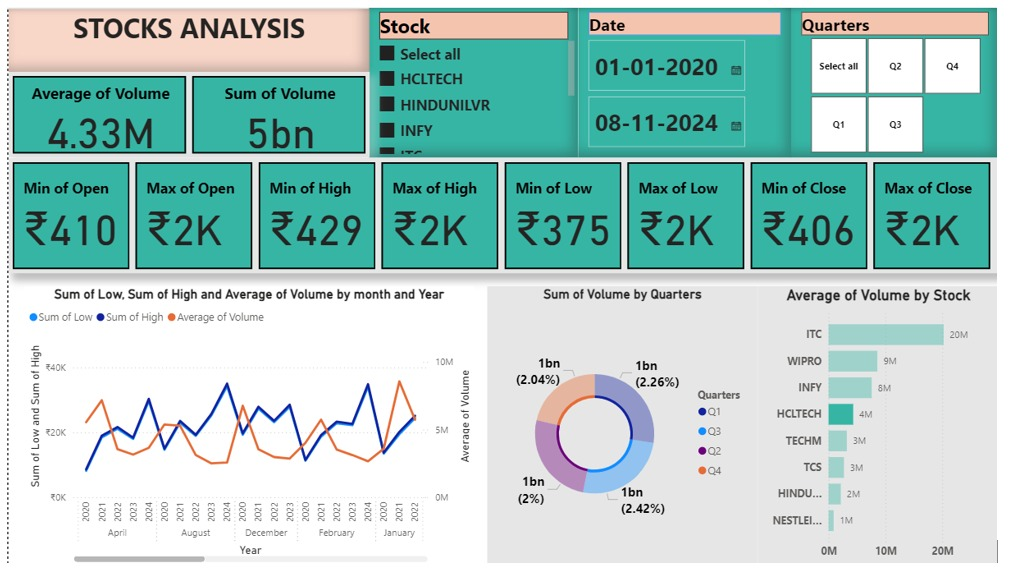

The dashboard page shown, as its layout file describes it:
{"tool":"powerbi","page":{"name":"Page 1","canvas":[1280,720],"ordinal":0},"visuals":[{"type":"slicer","fields":{"Values":["stock data  final.Stock"]},"box":[466.7,0,270,193.3],"z":0},{"type":"slicer","fields":{"Values":["stock data  final.Date"]},"box":[736.7,0,275,193.3],"z":1000},{"type":"slicer","fields":{"Values":["stock data  final.Quarters"]},"box":[1011.7,0,268.3,193.3],"z":2000},{"type":"textbox","title":"STOCKS ANALYSIS","box":[0,1.7,466.7,83.3],"z":3000},{"type":"cardVisual","fields":{"Data":["Avg(stock data  final.Volume)","Sum(stock data  final.Volume)1"]},"box":[0,83.3,466.7,110],"z":4000},{"type":"cardVisual","fields":{"Data":["Min(stock data  final.Open)","Max(stock data  final.Open)1","Min(stock data  final.High)","Max(stock data  final.High)1","Min(stock data  final.Low)1","Max(stock data  final.Low)","Min(stock data  final.Close)","Max(stock data  final.Close)1"]},"box":[0,193.3,1280,148.3],"z":5000},{"type":"barChart","fields":{"Category":["stock data  final.Stock"],"Y":["Avg(stock data  final.Volume)"]},"box":[968.7,359.5,311.8,361.1],"z":6000},{"type":"donutChart","fields":{"Category":["stock data  final.Quarters"],"Y":["Sum(stock data  final.Volume)"]},"box":[618.7,359.5,349.9,361.1],"z":7000},{"type":"lineChart","fields":{"Category":["stock data  final.month","stock data  final.Year"],"Y":["Sum(stock data  final.Low)","Sum(stock data  final.High)"],"Y2":["Avg(stock data  final.Volume)"]},"box":[20.7,359.5,580.6,361.1],"z":8000}]}

Visuals, with their boxes in screenshot pixels (x1, y1, x2, y2), scaled from the page's 1280x720 canvas onto the 1012x571 screenshot:
slicer - stock data  final.Stock: rect(369, 0, 582, 153)
slicer - stock data  final.Date: rect(582, 0, 800, 153)
slicer - stock data  final.Quarters: rect(800, 0, 1011, 153)
"STOCKS ANALYSIS" textbox: rect(0, 1, 369, 67)
cardVisual - Avg(stock data  final.Volume) x Sum(stock data  final.Volume)1: rect(0, 66, 369, 153)
cardVisual - Min(stock data  final.Open) x Max(stock data  final.Open)1: rect(0, 153, 1011, 271)
barChart - stock data  final.Stock x Avg(stock data  final.Volume): rect(766, 285, 1011, 570)
donutChart - stock data  final.Quarters x Sum(stock data  final.Volume): rect(489, 285, 766, 570)
lineChart - stock data  final.month x stock data  final.Year: rect(16, 285, 475, 570)
